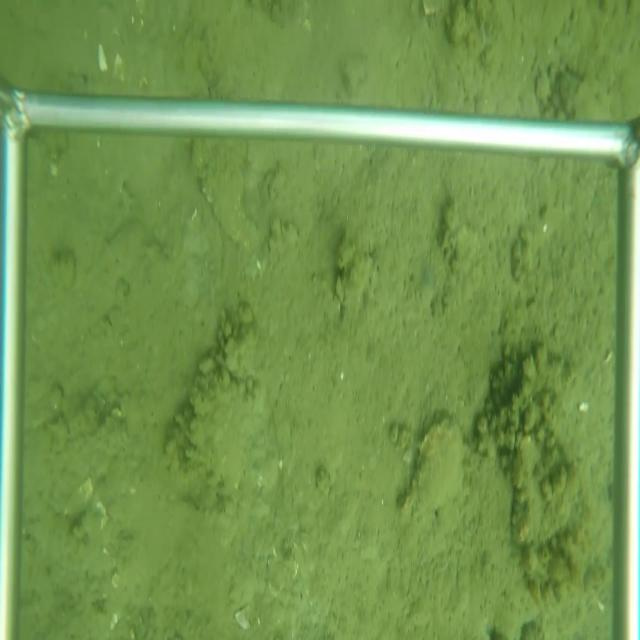Oyster-Indeterminate: (189, 350, 266, 505), (393, 414, 465, 521)
